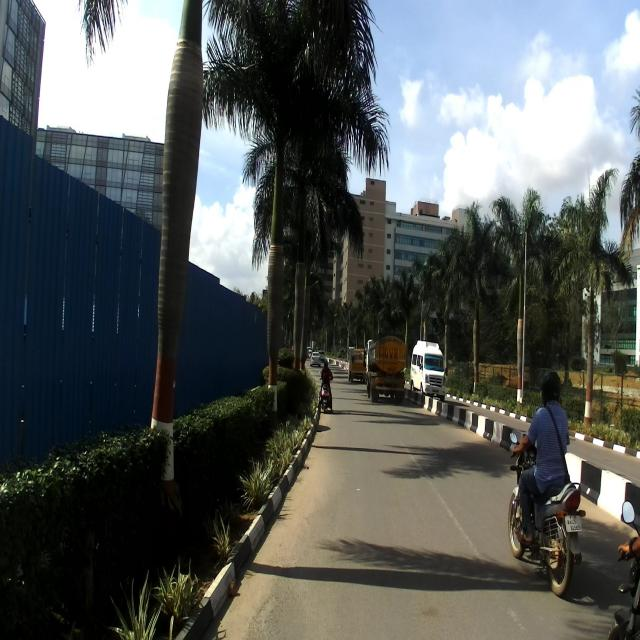mini-bus: (409, 335, 447, 401)
motorcycle_Hero: (507, 431, 586, 598)
truck: (366, 334, 406, 404)
